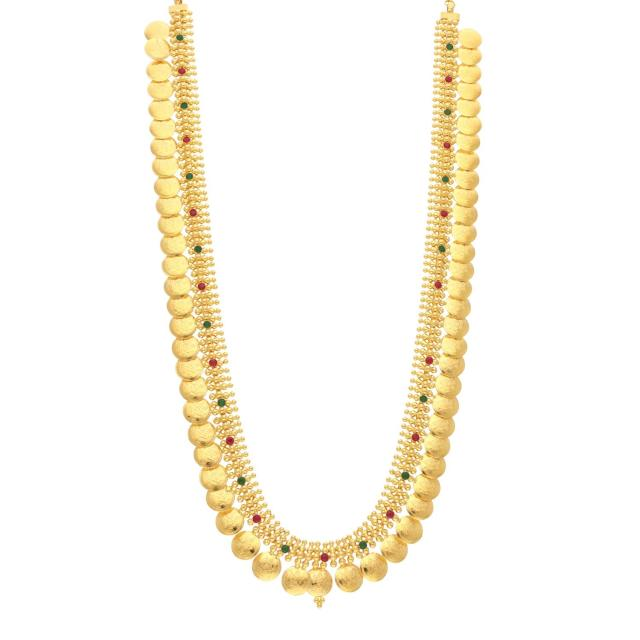missing gem: (430, 319, 438, 327)
